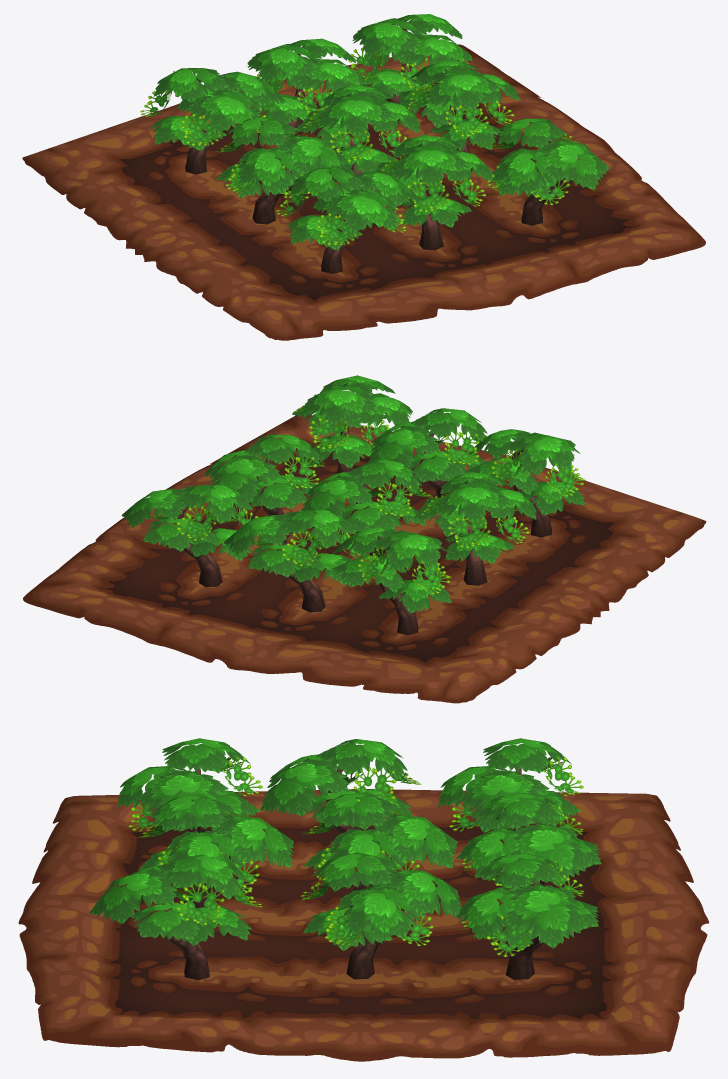
The model's file is Grape_Field_Lv2.FBX.
The picture shows the model from 3 angles, top to bottom: view 1: azimuth 30°, elevation 25°; view 2: azimuth 150°, elevation 25°; view 3: azimuth 270°, elevation 25°; orthographic projection. The views are drawn at different scales.
Parts seen in each view (by area): view 1: Grape_Field_Lv2; view 2: Grape_Field_Lv2; view 3: Grape_Field_Lv2.
Boxes of the visible parts, box(x1,y1,x2,y2) form: Grape_Field_Lv2: box(22, 14, 705, 340); Grape_Field_Lv2: box(23, 375, 706, 703); Grape_Field_Lv2: box(18, 738, 709, 1061).
Bounding box in the file's own units: 274 × 57.11 × 296.
